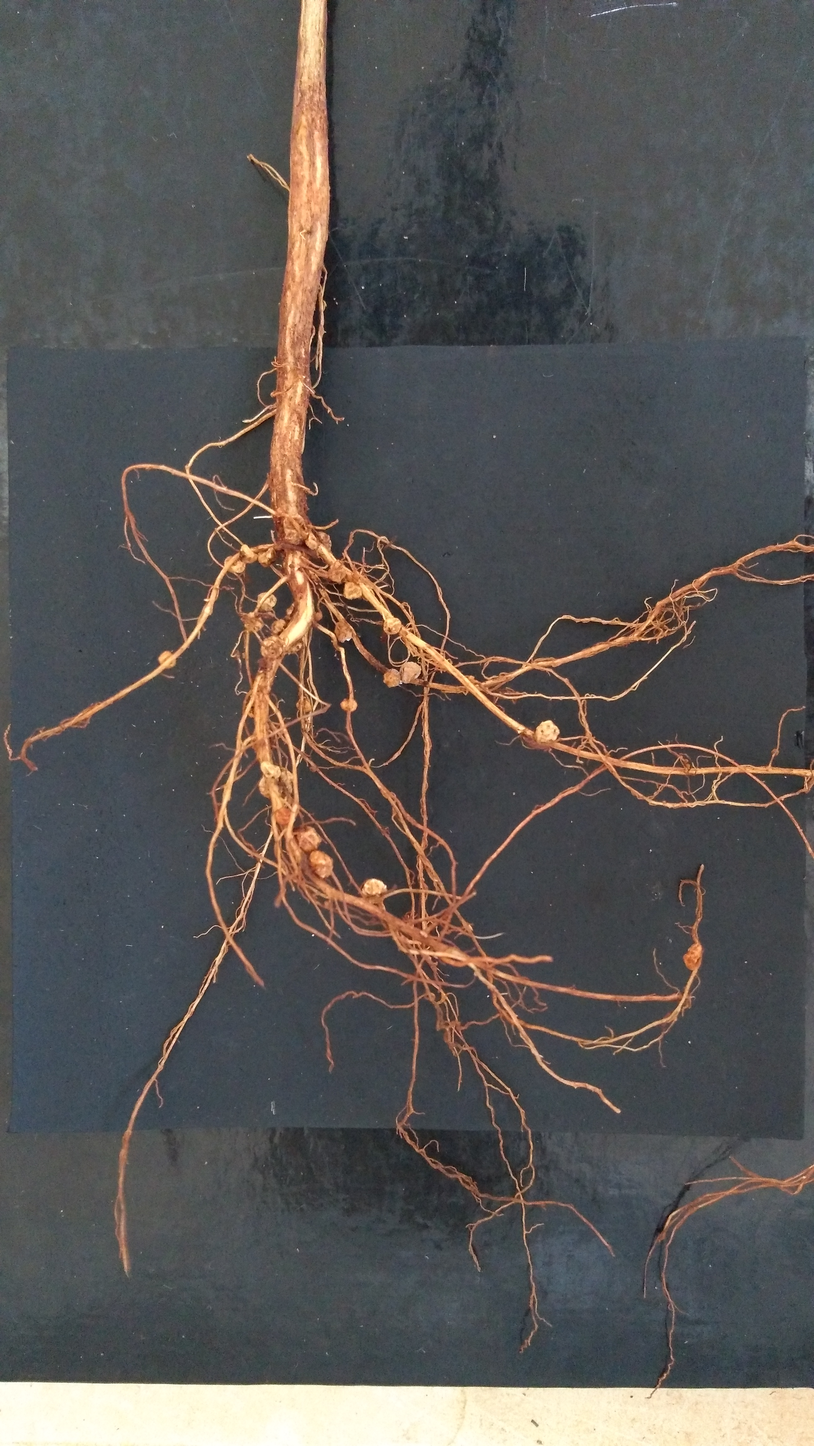nodule: (257, 767, 293, 798), (283, 511, 308, 544), (310, 850, 333, 880), (297, 825, 322, 852), (536, 720, 560, 745), (260, 635, 285, 658), (684, 942, 703, 971), (313, 530, 331, 560), (361, 878, 387, 898), (400, 661, 421, 684), (257, 547, 277, 568), (244, 611, 264, 632), (257, 592, 277, 612), (224, 555, 245, 574), (335, 620, 353, 642), (257, 672, 271, 700), (157, 650, 177, 669), (343, 580, 362, 600), (382, 668, 401, 688), (260, 762, 280, 780), (328, 564, 346, 583), (274, 807, 293, 825), (383, 617, 401, 635), (241, 545, 257, 564), (295, 696, 312, 712), (360, 584, 374, 602), (287, 640, 303, 655), (340, 698, 357, 712), (305, 530, 317, 549), (272, 619, 287, 634), (285, 602, 297, 620), (257, 658, 273, 671), (314, 612, 322, 621), (468, 675, 476, 682), (309, 765, 316, 772)
